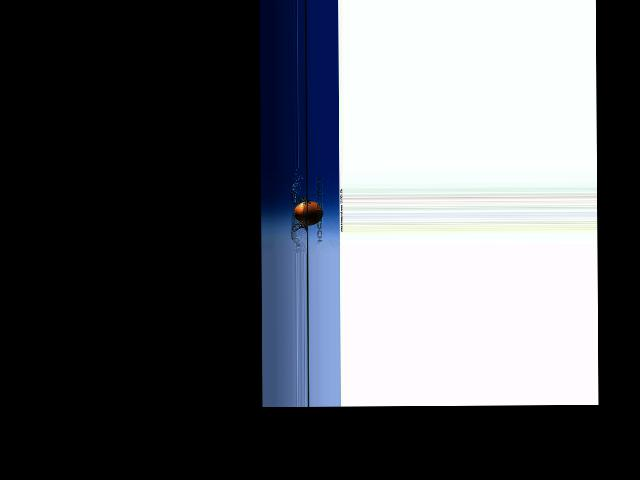egg: (293, 201, 323, 225)
